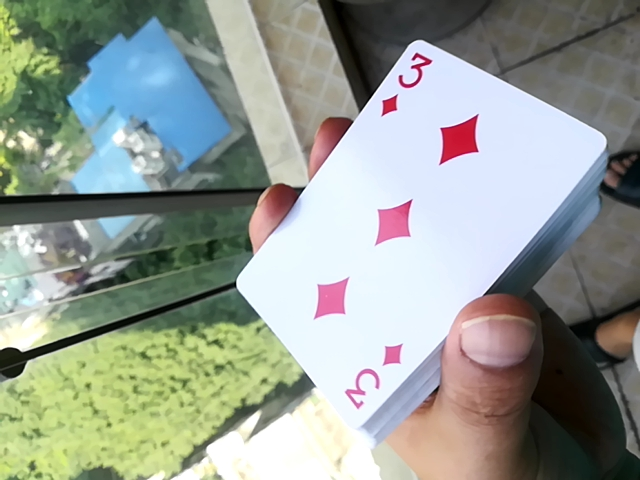fk 3: (220, 40, 615, 458)
